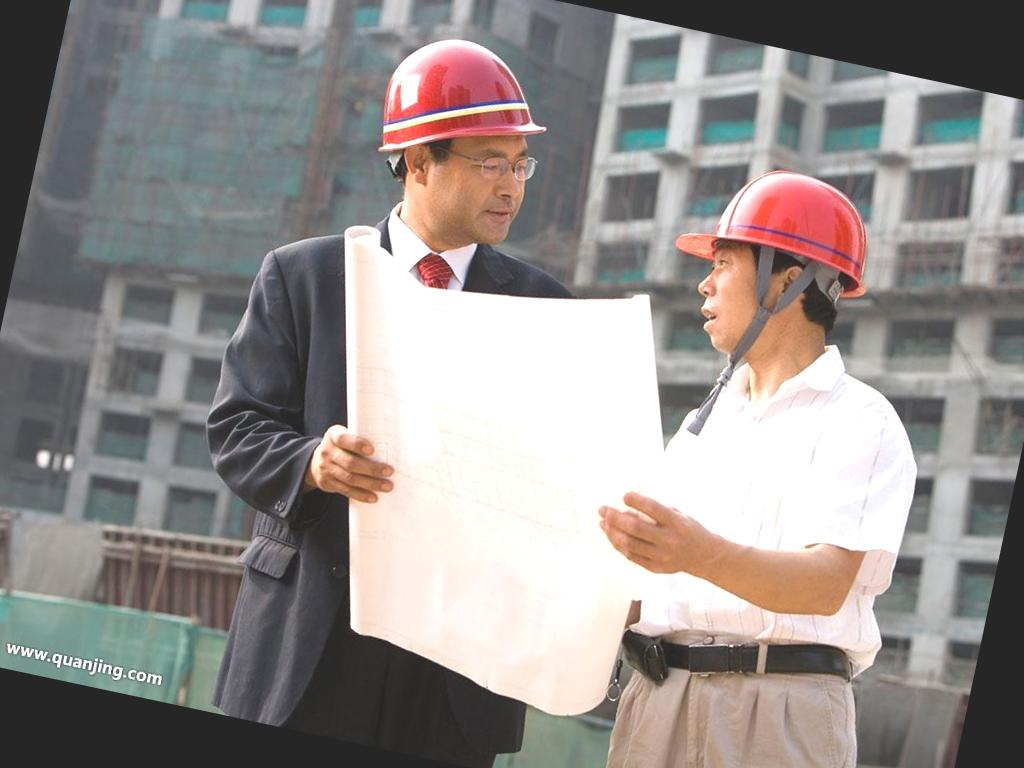helmet: (356, 23, 574, 202), (663, 143, 895, 300)
no_vest: (639, 328, 921, 676)
person: (161, 3, 610, 766), (564, 141, 989, 768)
